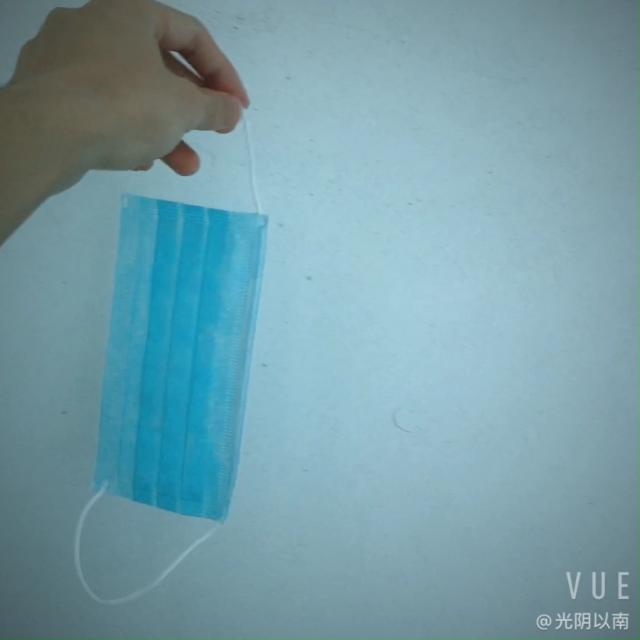face mask: (80, 189, 271, 522)
